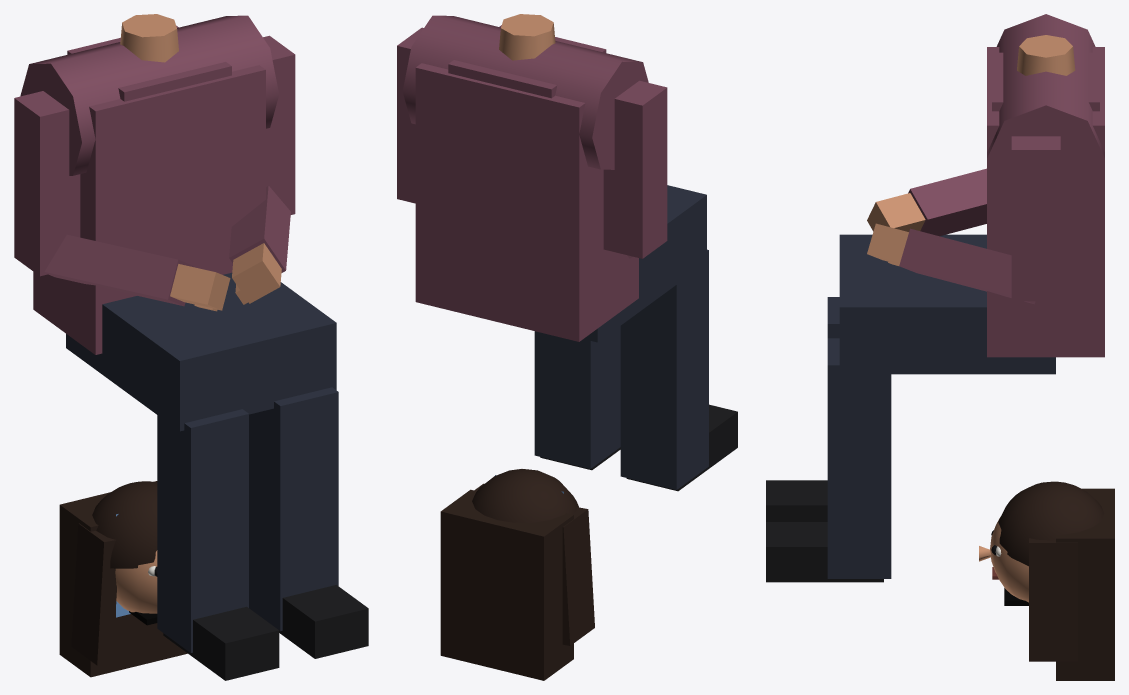
The model's file is mom.fbx.
3 renders of one model, left to right at view 1: azimuth 30°, elevation 25°; view 2: azimuth 150°, elevation 25°; view 3: azimuth 270°, elevation 25°, orthographic. The views are drawn at different scales.
Visible parts, largest first — view 1: Mesh_10, Mesh_11, Mesh_5, Mesh_12, Body_Skin, Head_Skin; view 2: Mesh_10, Mesh_11, Mesh_5, Body_Skin, Mesh_12; view 3: Mesh_10, Mesh_11, Mesh_5, Mesh_12, Body_Skin, Head_Skin.
Boxes of the visible parts, x1,y1,x2,y2 form: Mesh_10: (14, 15, 295, 354); Mesh_11: (66, 272, 338, 652); Mesh_5: (59, 481, 187, 677); Mesh_12: (163, 585, 368, 680); Body_Skin: (120, 14, 281, 311); Head_Skin: (115, 550, 157, 613); Mesh_10: (397, 15, 667, 341); Mesh_11: (534, 185, 708, 489); Mesh_5: (440, 469, 594, 680); Body_Skin: (499, 14, 555, 60); Mesh_12: (540, 404, 737, 491); Mesh_10: (899, 14, 1104, 357); Mesh_11: (827, 234, 1055, 578); Mesh_5: (998, 481, 1114, 680); Mesh_12: (766, 480, 883, 582); Body_Skin: (867, 35, 1075, 265); Head_Skin: (979, 517, 1028, 602).
Size of the model in its own units: 0.57 by 1.37 by 0.71.
